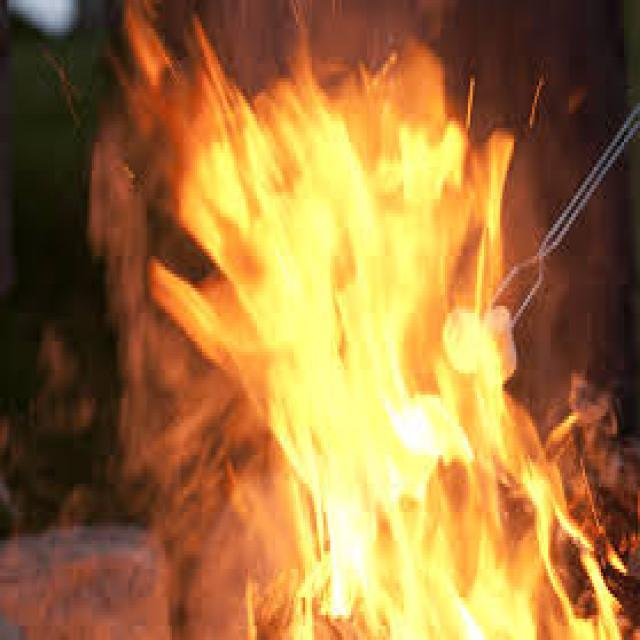Fire: (125, 0, 627, 640)
